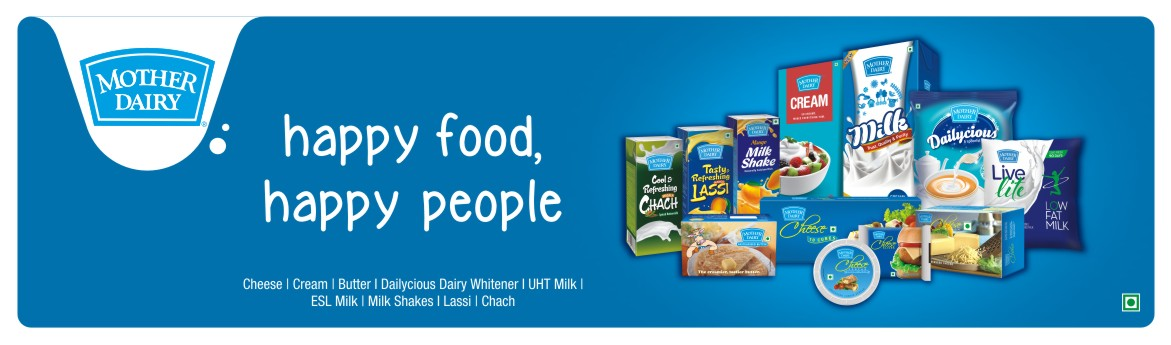Mother_Dairy: (78, 39, 215, 144)
